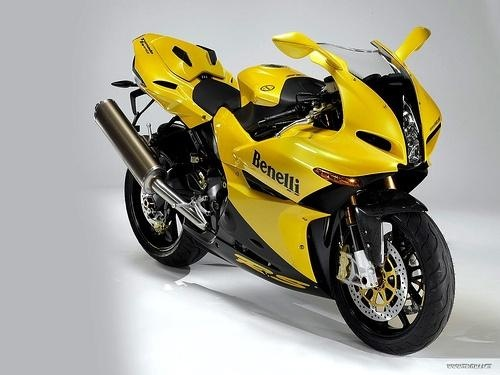motorbike: (93, 25, 457, 358)
